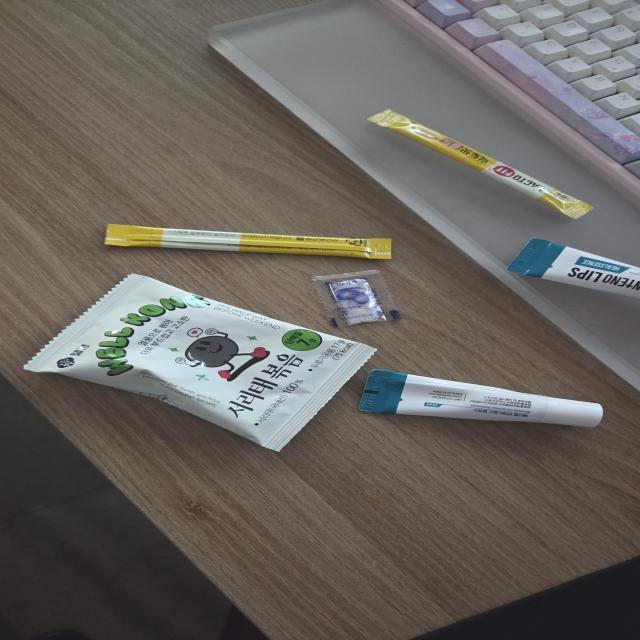lacto: (364, 109, 595, 221), (104, 222, 395, 260)
lib: (356, 366, 606, 429), (506, 236, 640, 298)
salt: (308, 270, 407, 329)
